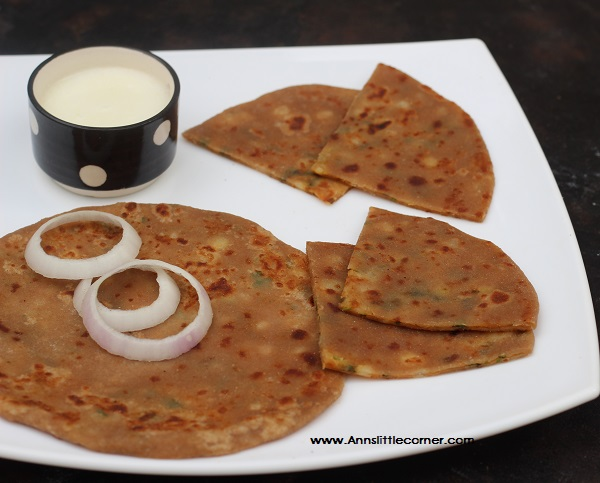aloo_paratha: (1, 200, 538, 462), (186, 63, 533, 224)
